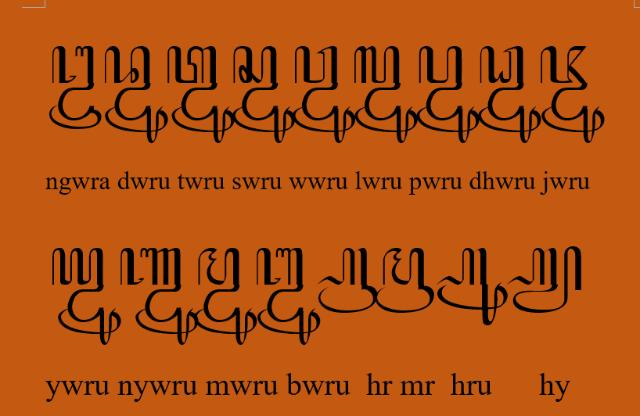_hr: (316, 248, 378, 314)
_hru: (438, 247, 508, 327)
_hy: (509, 246, 583, 314)
bwru: (256, 247, 322, 345)
dhwru: (477, 45, 541, 143)
dwru: (103, 44, 169, 144)
jwru: (540, 46, 606, 144)
lwru: (352, 44, 418, 144)
mr: (375, 247, 435, 313)
mwru: (194, 247, 258, 346)
ngwra: (49, 45, 103, 131)
nywru: (120, 248, 198, 346)
pwru: (416, 44, 480, 144)
swru: (232, 46, 296, 144)
twru: (167, 44, 235, 144)
wwru: (294, 46, 356, 144)
ywru: (52, 248, 122, 346)
